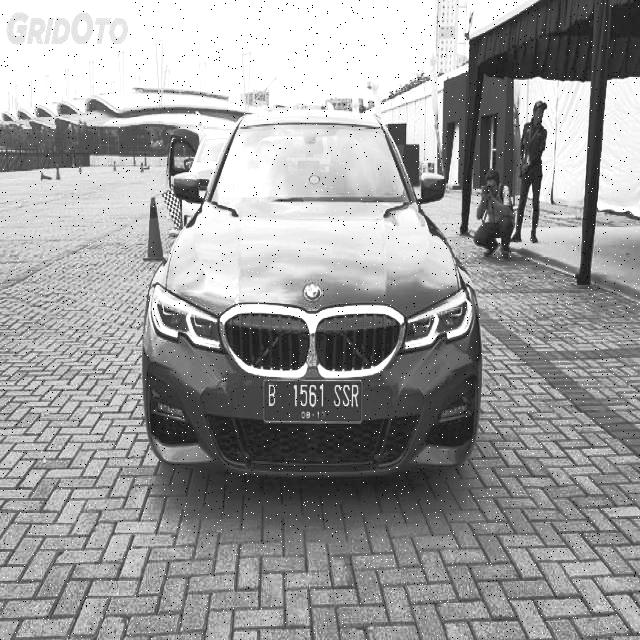Car: (155, 94, 488, 509)
